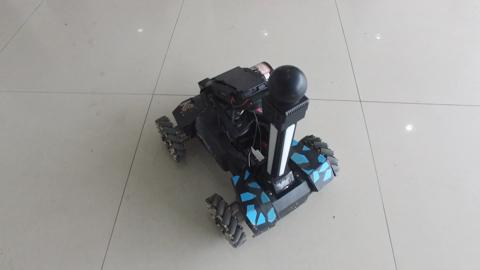chariot: (151, 43, 329, 232)
